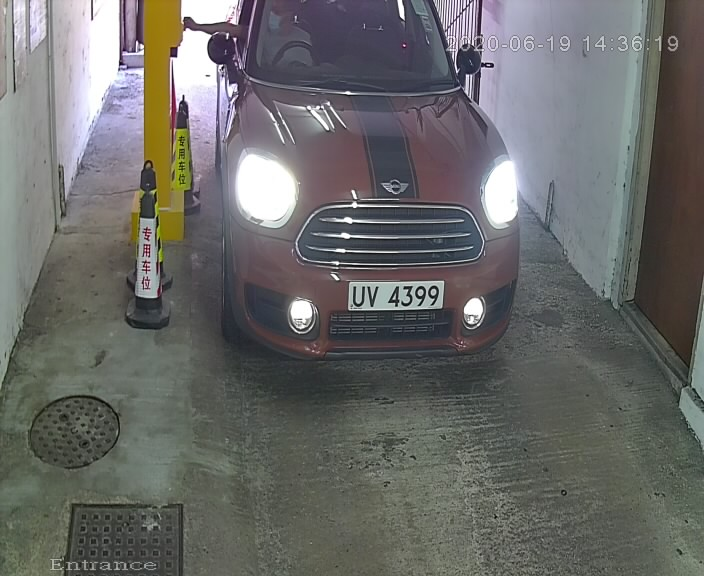privatecar: (206, 3, 532, 359)
